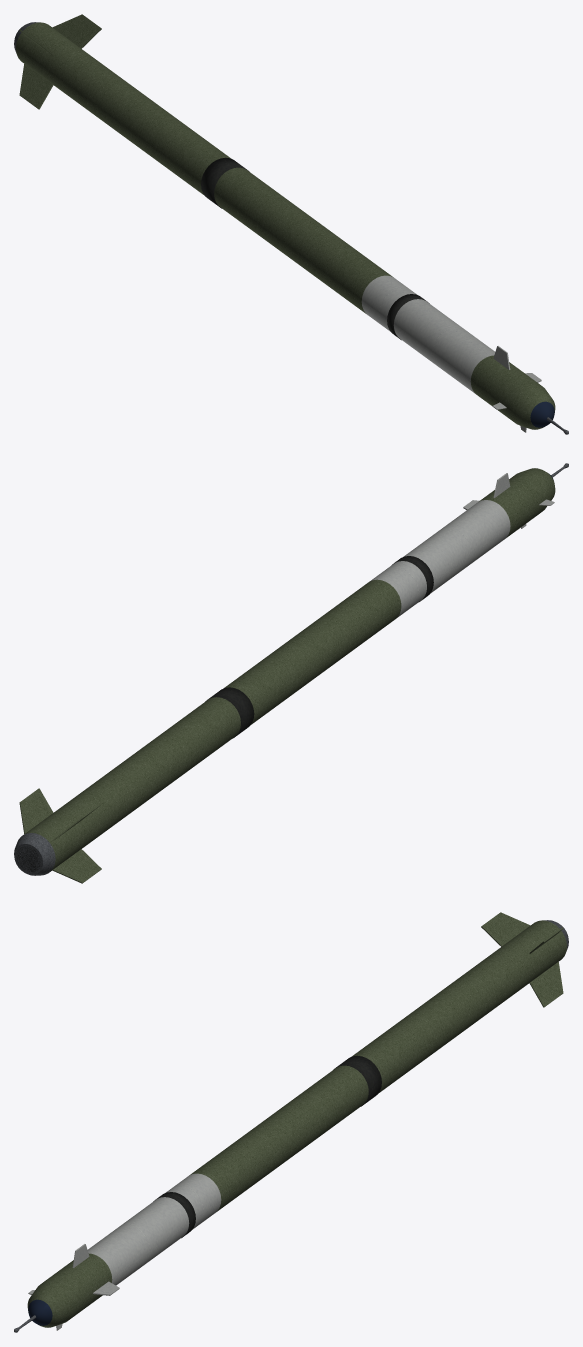
File: igla_missile.glb
3 views of the same model, one above another, from view 1: azimuth 30°, elevation 25°; view 2: azimuth 150°, elevation 25°; view 3: azimuth 330°, elevation 25° (orthographic).
Visible parts, largest first — view 1: igla_missile; view 2: igla_missile; view 3: igla_missile.
Boxes of the visible parts, x1,y1,x2,y2 form: igla_missile: (14,14,568,434); igla_missile: (14,463,568,883); igla_missile: (14,912,568,1332).
Size of the model in its own units: 0.1192 by 0.1192 by 1.68.
Materials: 5 (5 with a texture image).
